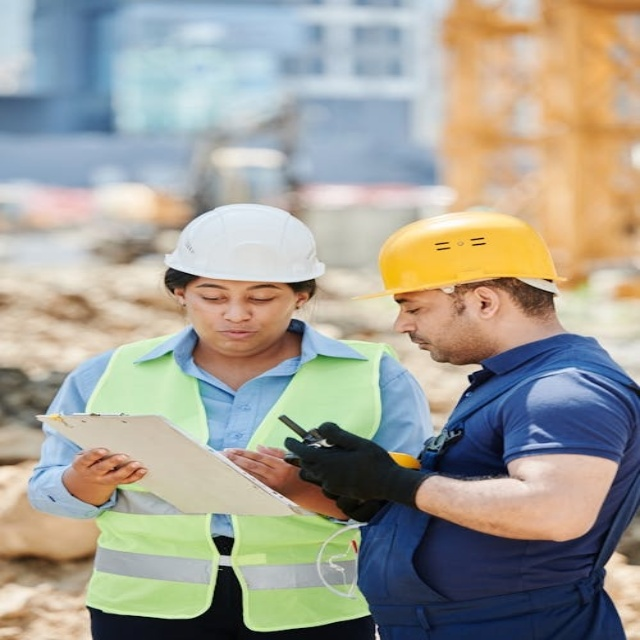Guantes: (284, 420, 420, 510)
Sin_gafas: (188, 283, 283, 308), (390, 296, 444, 318)
Sin_guantes: (223, 444, 316, 505), (63, 446, 148, 499)
Sin_mascara: (206, 326, 262, 351), (407, 332, 453, 359)
